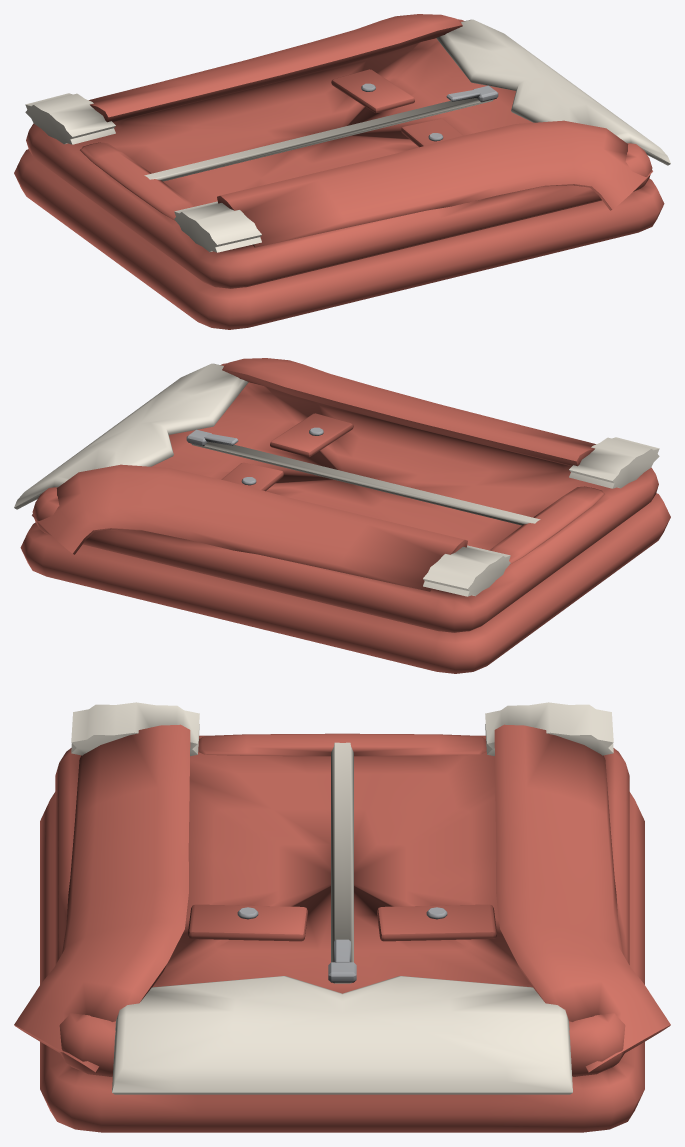
Rendered from wear_jacket.glb.
The picture shows the model from 3 angles, top to bottom: view 1: azimuth 30°, elevation 25°; view 2: azimuth 150°, elevation 25°; view 3: azimuth 270°, elevation 25°; orthographic projection. The views are drawn at different scales.
Visible parts, largest first — view 1: PART; view 2: PART; view 3: PART.
Boxes of the visible parts, <box> form: PART: <box>14,14,670,329</box>; PART: <box>14,358,670,673</box>; PART: <box>14,702,670,1132</box>.
Bounding box in the file's own units: 0.414 × 0.0834 × 0.3476.
